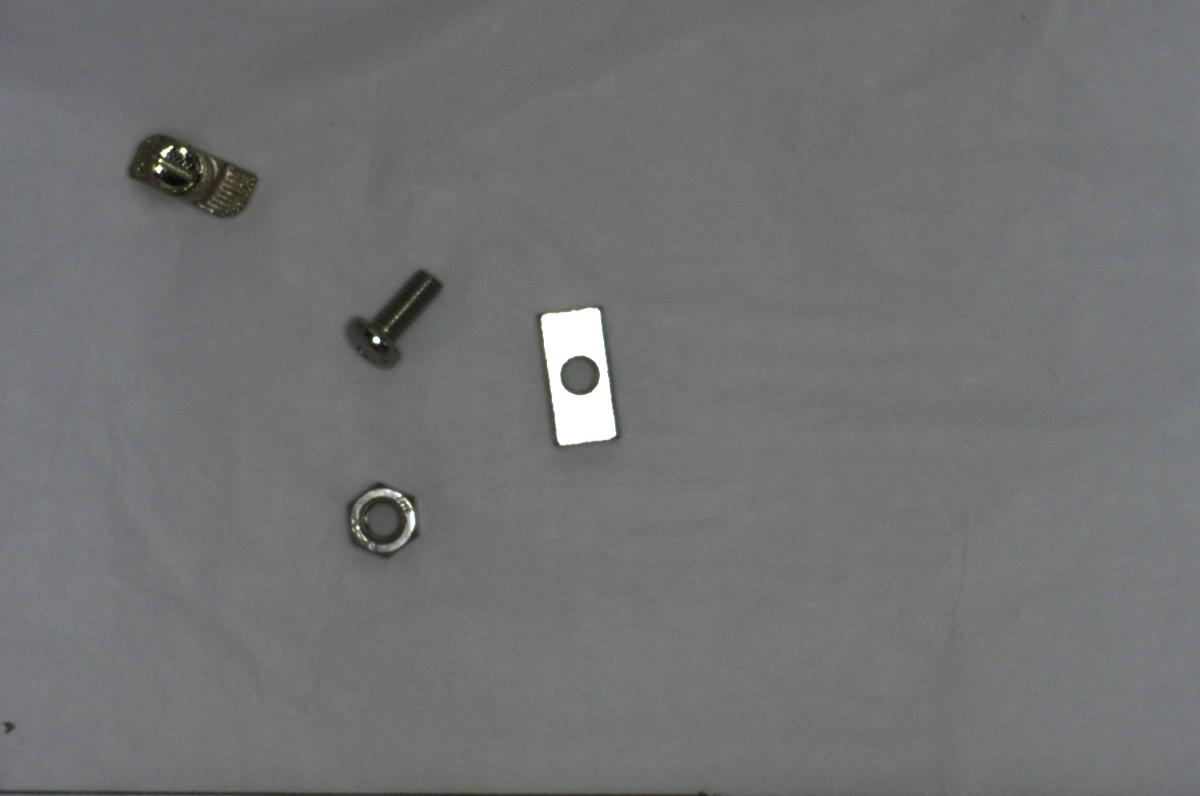Hexagon nut: (337, 475, 421, 566)
Rectangular nut: (535, 296, 626, 456)
Round head screw: (346, 266, 435, 365)
T-shaped screw: (120, 126, 258, 222)
